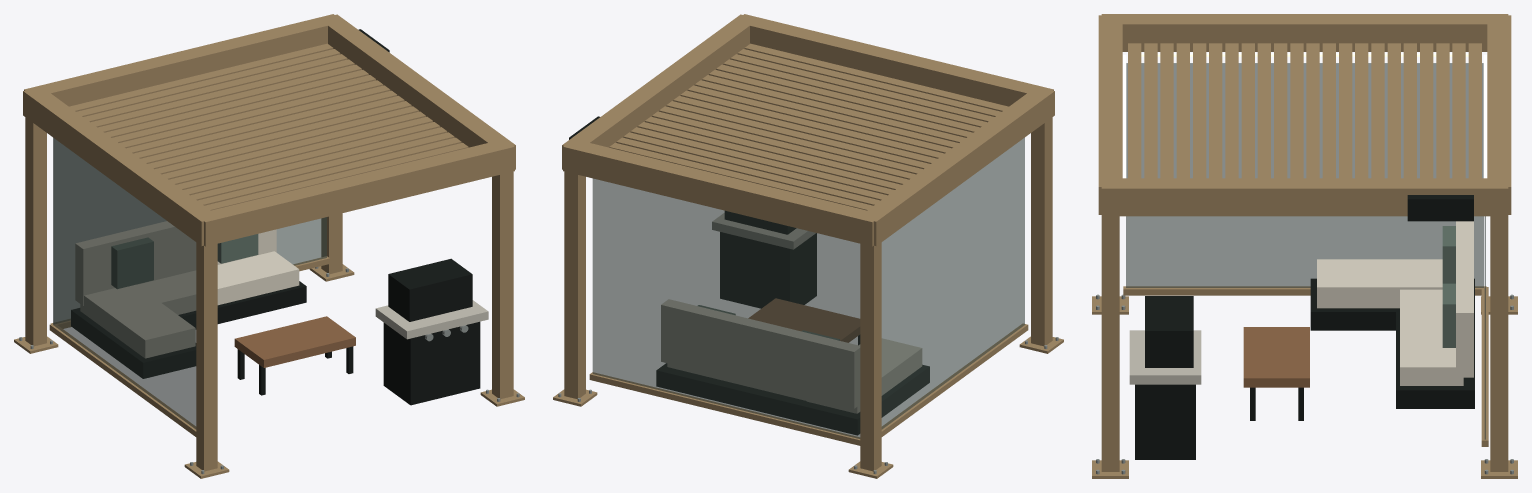
Rendered from coordinatez-axis-10x10-sand.glb.
3 renders of one model, left to right at view 1: azimuth 30°, elevation 25°; view 2: azimuth 150°, elevation 25°; view 3: azimuth 270°, elevation 25°, orthographic. The views are drawn at different scales.
Visible parts, largest first — view 1: Left motorized wall, Structural post (×4), Front motor beam, Rear motorized wall, Rear drainage beam, Left beam, BBQ cabinet, Right beam, Chaise cushion, Sofa back, Sofa seat, BBQ hood (+27 smaller); view 2: Rear motorized wall, Left motorized wall, Structural post (×3), Sofa back, Rear drainage beam, Front motor beam, Left beam, Right beam, BBQ cabinet, Sofa base, Coffee table top, Rear wall bottom rail (+26 smaller); view 3: Left motorized wall, Right beam, Left beam, Structural post (×2), Chaise cushion, Sofa seat, BBQ cabinet, Front motor beam, Rear drainage beam, Coffee table top, BBQ hood, Sofa back (+33 smaller).
Boxes of the visible parts, x1=… form: Left motorized wall: x1=53, y1=138, x2=196, y2=429; Structural post (×4): x1=25, y1=117, x2=513, y2=471; Front motor beam: x1=195, y1=139, x2=514, y2=246; Rear motorized wall: x1=54, y1=139, x2=326, y2=323; Rear drainage beam: x1=24, y1=14, x2=343, y2=106; Left beam: x1=23, y1=90, x2=219, y2=245; BBQ cabinet: x1=383, y1=321, x2=480, y2=405; Right beam: x1=321, y1=14, x2=515, y2=169; Chaise cushion: x1=80, y1=285, x2=195, y2=358; Sofa back: x1=75, y1=221, x2=276, y2=305; Sofa seat: x1=137, y1=251, x2=299, y2=314; BBQ hood: x1=388, y1=258, x2=472, y2=321; Rear motorized wall: x1=592, y1=178, x2=860, y2=438; Left motorized wall: x1=881, y1=138, x2=1024, y2=429; Structural post (×3): x1=564, y1=117, x2=1052, y2=471; Sofa back: x1=661, y1=299, x2=859, y2=408; Rear drainage beam: x1=563, y1=139, x2=882, y2=246; Front motor beam: x1=734, y1=14, x2=1053, y2=106; Left beam: x1=860, y1=90, x2=1054, y2=245; Right beam: x1=562, y1=14, x2=757, y2=169; BBQ cabinet: x1=720, y1=232, x2=816, y2=308; Sofa base: x1=656, y1=363, x2=891, y2=435; Coffee table top: x1=748, y1=298, x2=859, y2=342; Rear wall bottom rail: x1=589, y1=372, x2=860, y2=445; Left motorized wall: x1=1126, y1=63, x2=1483, y2=287; Right beam: x1=1101, y1=178, x2=1508, y2=216; Left beam: x1=1101, y1=14, x2=1508, y2=51; Structural post (×2): x1=1101, y1=216, x2=1508, y2=471; Chaise cushion: x1=1317, y1=259, x2=1442, y2=308; Sofa seat: x1=1400, y1=289, x2=1463, y2=385; BBQ cabinet: x1=1135, y1=384, x2=1195, y2=459; Front motor beam: x1=1098, y1=15, x2=1122, y2=214; Rear drainage beam: x1=1487, y1=15, x2=1511, y2=214; Coffee table top: x1=1243, y1=327, x2=1309, y2=387; BBQ hood: x1=1145, y1=296, x2=1193, y2=367; Sofa back: x1=1456, y1=221, x2=1473, y2=377.
Size of the model in its own units: 3.37 by 2.49 by 3.34.
